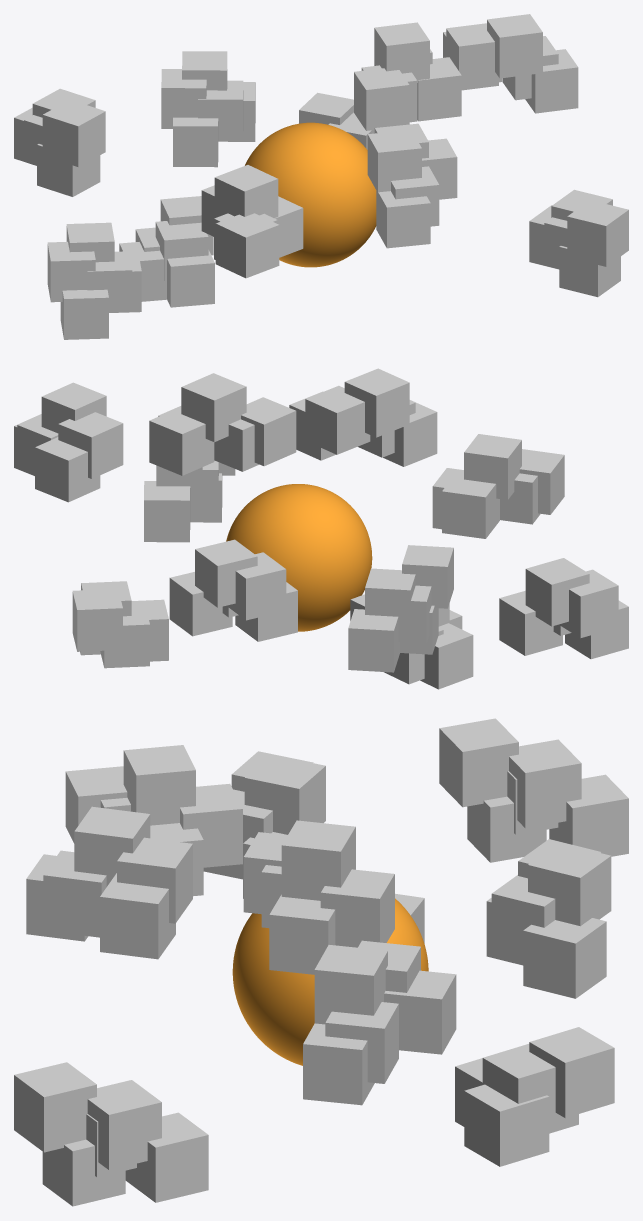
File: Clouds_sun.glb
3 renders of one model, top to bottom at view 1: azimuth 30°, elevation 25°; view 2: azimuth 150°, elevation 25°; view 3: azimuth 270°, elevation 25°, orthographic. The views are drawn at different scales.
Visible parts, largest first — view 1: Sphere, Cube.016, Cube.033, Cube.023, Cube.049, Cube.028, Cube.004, Cube.014, Cube.035, Cube.041, Cube.002; view 2: Sphere, Cube.023, Cube.028, Cube.033, Cube.049, Cube.004, Cube.035, Cube.016, Cube.002, Cube.014, Cube.041; view 3: Cube.014, Cube.035, Cube.016, Cube.033, Cube.023, Cube.002, Cube.004, Cube.028, Sphere, Cube.049.
Boxes of the visible parts, x1=… form: Sphere: x1=245, y1=122, x2=376, y2=267; Cube.016: x1=443, y1=14, x2=578, y2=113; Cube.033: x1=367, y1=123, x2=457, y2=248; Cube.023: x1=354, y1=22, x2=461, y2=130; Cube.049: x1=47, y1=222, x2=141, y2=339; Cube.028: x1=201, y1=165, x2=303, y2=278; Cube.004: x1=161, y1=51, x2=255, y2=167; Cube.014: x1=529, y1=189, x2=628, y2=297; Cube.035: x1=14, y1=88, x2=105, y2=196; Cube.041: x1=119, y1=196, x2=214, y2=307; Cube.002: x1=299, y1=92, x2=374, y2=149; Sphere: x1=226, y1=484, x2=372, y2=631; Cube.023: x1=149, y1=373, x2=296, y2=475; Cube.028: x1=432, y1=434, x2=564, y2=538; Cube.033: x1=289, y1=368, x2=437, y2=466; Cube.049: x1=499, y1=558, x2=628, y2=659; Cube.004: x1=169, y1=539, x2=297, y2=641; Cube.035: x1=348, y1=545, x2=453, y2=672; Cube.016: x1=14, y1=382, x2=123, y2=502; Cube.002: x1=72, y1=581, x2=168, y2=668; Cube.014: x1=144, y1=461, x2=235, y2=542; Cube.041: x1=350, y1=594, x2=473, y2=689; Cube.014: x1=14, y1=1062, x2=208, y2=1206; Cube.035: x1=439, y1=718, x2=628, y2=862; Cube.016: x1=303, y1=940, x2=456, y2=1105; Cube.033: x1=26, y1=806, x2=192, y2=959; Cube.023: x1=243, y1=820, x2=394, y2=974; Cube.002: x1=455, y1=1027, x2=614, y2=1166; Cube.004: x1=486, y1=839, x2=611, y2=998; Cube.028: x1=65, y1=745, x2=242, y2=896; Sphere: x1=232, y1=898, x2=428, y2=1065; Cube.049: x1=203, y1=751, x2=325, y2=898.
Bounding box in the file's own units: 28.35 × 10.38 × 20.17.
